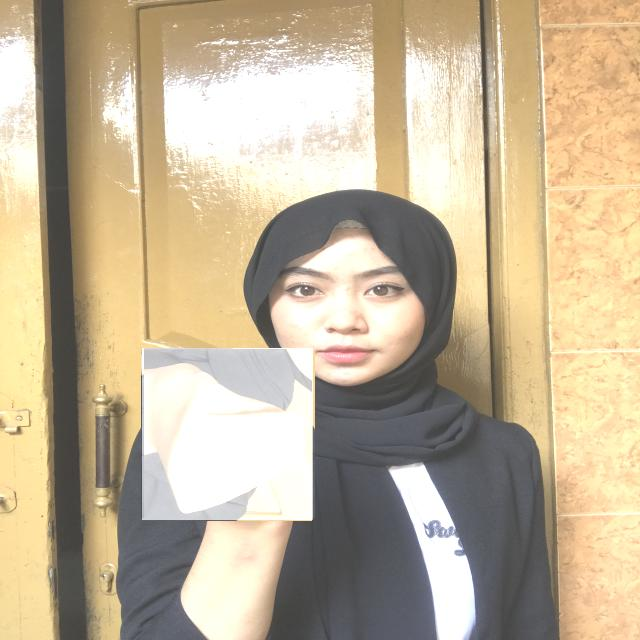kapan: (142, 348, 313, 520)
